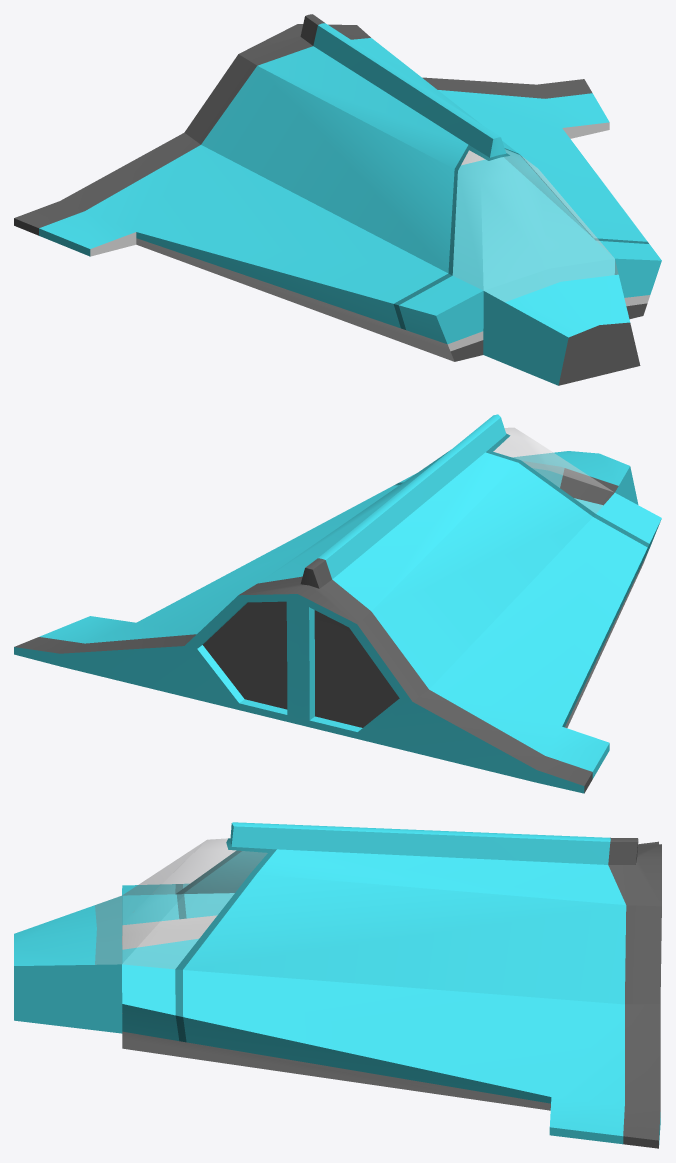
File: Spaceship Partner.fbx
The picture shows the model from 3 angles, top to bottom: view 1: azimuth 30°, elevation 25°; view 2: azimuth 150°, elevation 25°; view 3: azimuth 270°, elevation 25°; orthographic projection. The views are drawn at different scales.
Visible parts, largest first — view 1: spaceship partner; view 2: spaceship partner; view 3: spaceship partner.
Part boxes in pixels (bbox=[...]): spaceship partner: bbox=[14, 14, 661, 385]; spaceship partner: bbox=[14, 414, 661, 793]; spaceship partner: bbox=[14, 822, 661, 1148].
Size of the model in its own units: 445 by 123 by 408.
